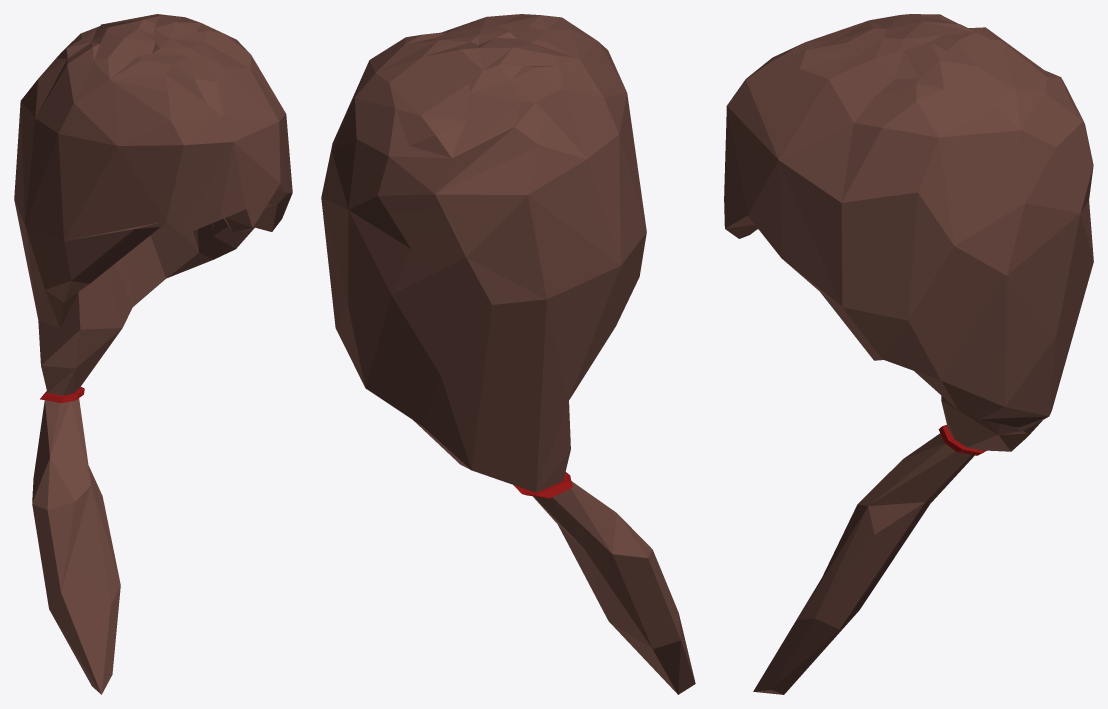
File: BusinessWoman_Hair_A.fbx
3 views of the same model, side by side, from view 1: azimuth 30°, elevation 25°; view 2: azimuth 150°, elevation 25°; view 3: azimuth 270°, elevation 25° (orthographic). The views are drawn at different scales.
Visible parts, largest first — view 1: BusinessWoman_Hair_A; view 2: BusinessWoman_Hair_A; view 3: BusinessWoman_Hair_A.
Boxes of the visible parts, x1,y1,x2,y2 form: BusinessWoman_Hair_A: [14, 14, 292, 694]; BusinessWoman_Hair_A: [321, 14, 695, 694]; BusinessWoman_Hair_A: [724, 14, 1093, 694].
Bounding box in the file's own units: 22.39 × 48.21 × 22.21.
